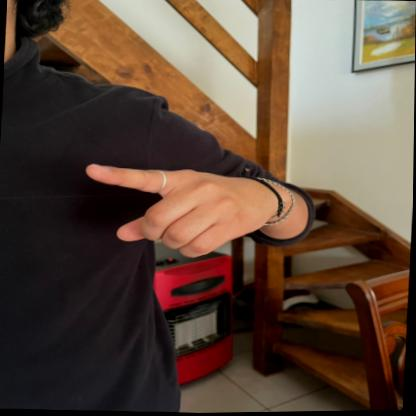S: (80, 155, 283, 265)
